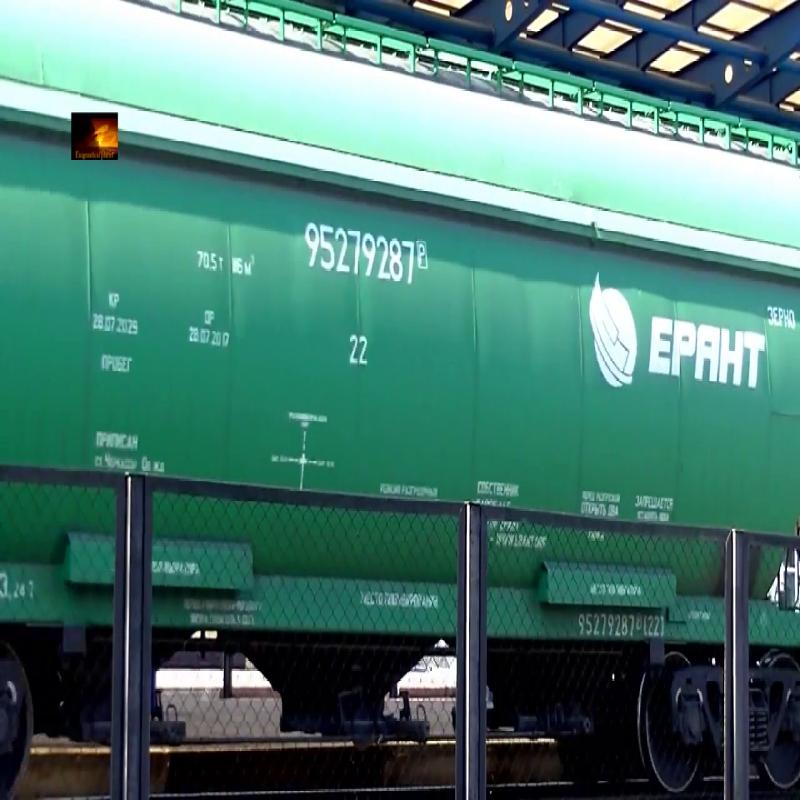train: (24, 1, 800, 763)
